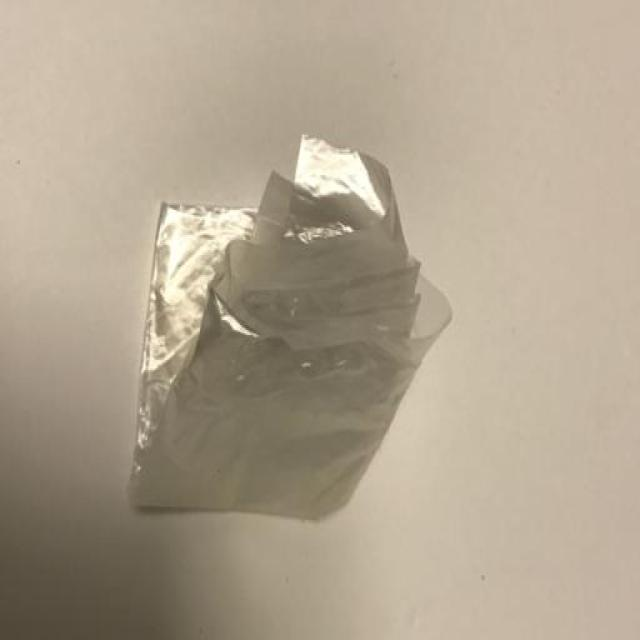Random Trash: (126, 135, 452, 523)
